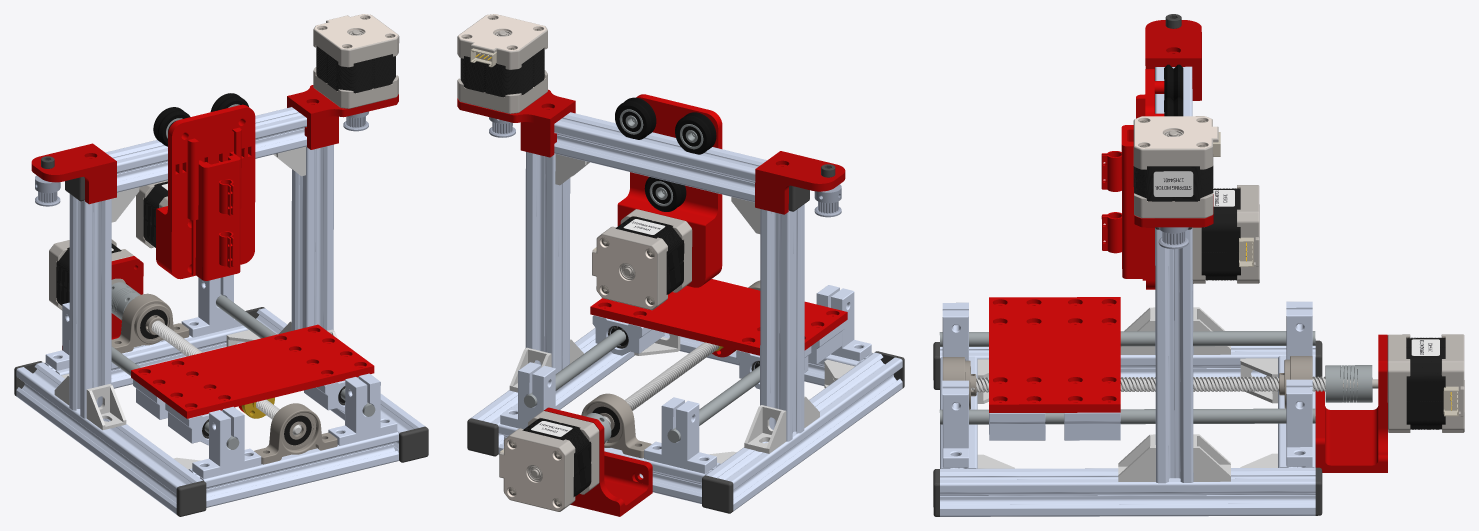
Rendered from cnc.fbx.
The picture shows the model from 3 angles, left to right: view 1: azimuth 30°, elevation 25°; view 2: azimuth 150°, elevation 25°; view 3: azimuth 270°, elevation 25°; orthographic projection. The views are drawn at different scales.
Visible parts, largest first — view 1: Part - Part, Part - Part 26, Part - Part 24, Part - Part 7, Part - Part 2, Part - Part 20, Part - Part 4, Part - Part 3, Part - Part 12, Part - Part 10, Part - Part 17, Part - Part 18 (+4 smaller); view 2: Part - Part, Part - Part 26, Part - Part 24, Part - Part 17, Part - Part 2, Part - Part 7, Part - Part 20, Part - Part 18, Part - Part 29, Part - Part 3, Part - Part 10, Part - Part 12 (+6 smaller); view 3: Part - Part, Part - Part 26, Part - Part 24, Part - Part 2, Part - Part 7, Part - Part 10, Part - Part 20, Part - Part 18, Part - Part 12, Part - Part 17, Part - Part 22, Part - Part 3 (+3 smaller).
Boxes of the visible parts, x1,y1,x2,y2 form: Part - Part: [16, 107, 425, 514]; Part - Part 26: [131, 104, 374, 418]; Part - Part 24: [31, 85, 398, 349]; Part - Part 7: [56, 46, 395, 445]; Part - Part 2: [54, 146, 337, 469]; Part - Part 20: [49, 14, 399, 310]; Part - Part 4: [111, 294, 336, 464]; Part - Part 3: [14, 156, 428, 516]; Part - Part 12: [133, 374, 371, 445]; Part - Part 10: [111, 282, 375, 449]; Part - Part 17: [56, 14, 397, 302]; Part - Part 18: [111, 67, 398, 284]; Part - Part: [471, 112, 902, 511]; Part - Part 26: [590, 94, 847, 357]; Part - Part 24: [457, 89, 845, 516]; Part - Part 17: [458, 14, 684, 511]; Part - Part 2: [509, 154, 854, 463]; Part - Part 7: [460, 48, 684, 496]; Part - Part 20: [457, 14, 667, 511]; Part - Part 18: [457, 70, 692, 494]; Part - Part 29: [615, 97, 716, 211]; Part - Part 3: [467, 164, 904, 513]; Part - Part 10: [524, 329, 759, 443]; Part - Part 12: [592, 315, 844, 389]; Part - Part: [940, 66, 1315, 516]; Part - Part 26: [989, 69, 1164, 412]; Part - Part 24: [1134, 20, 1387, 472]; Part - Part 2: [971, 307, 1325, 481]; Part - Part 7: [1133, 166, 1445, 429]; Part - Part 10: [939, 331, 1372, 424]; Part - Part 20: [1133, 116, 1464, 432]; Part - Part 18: [1134, 193, 1410, 432]; Part - Part 12: [989, 412, 1120, 440]; Part - Part 17: [1135, 116, 1464, 411]; Part - Part 22: [1153, 171, 1439, 355]; Part - Part 3: [933, 14, 1322, 516].
Bounding box in the file's own units: 25.14 × 23.63 × 28.28.
Materials: 22 (2 with a texture image).
